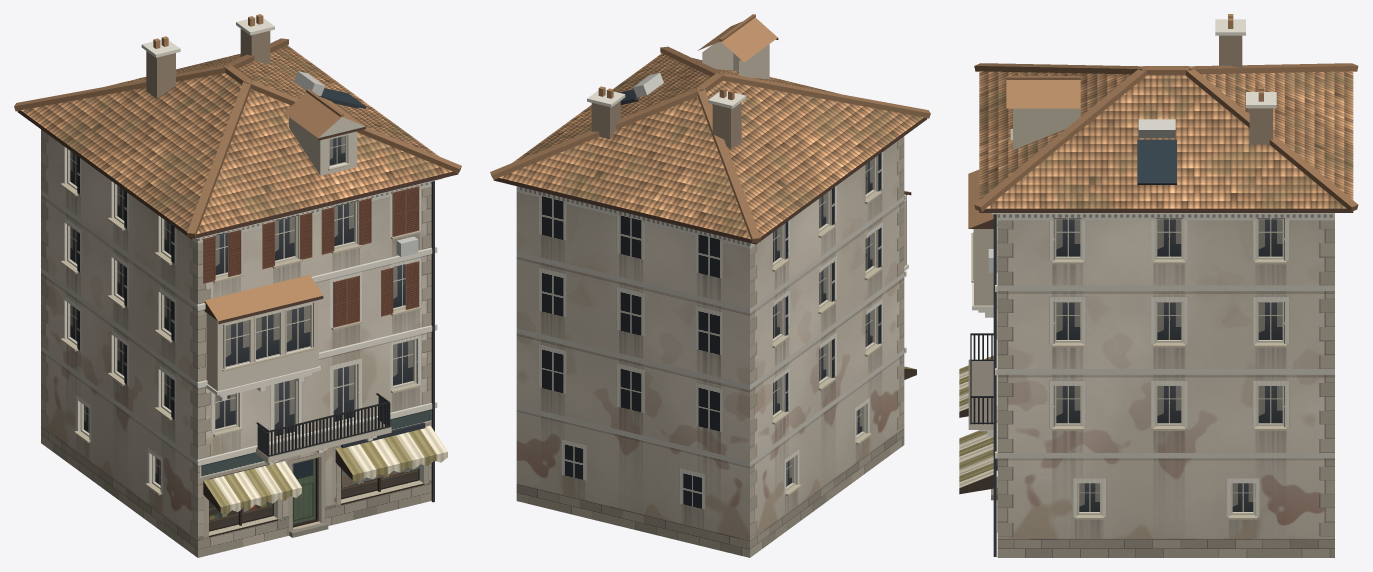
Rendered from hero_c.glb.
3 views of the same model, side by side, from view 1: azimuth 30°, elevation 25°; view 2: azimuth 150°, elevation 25°; view 3: azimuth 270°, elevation 25° (orthographic). The views are drawn at different scales.
Parts seen in each view (by area): view 1: bld_hero_old_core; view 2: bld_hero_old_core; view 3: bld_hero_old_core.
Part boxes in pixels (x1,y1,x2,y2): bld_hero_old_core: (14,14,461,557); bld_hero_old_core: (490,14,930,557); bld_hero_old_core: (959,14,1358,557).
Size of the model in its own units: 11.14 by 16.34 by 13.02.
1 material, 1 textured.
